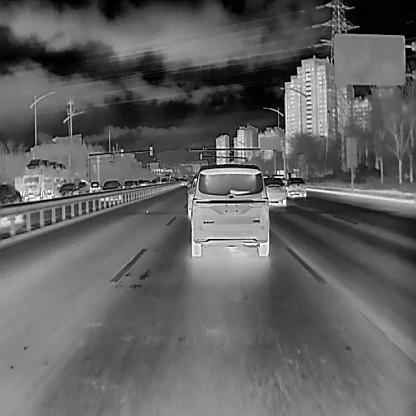car: (186, 159, 271, 257), (16, 156, 68, 200), (259, 174, 287, 205), (100, 177, 122, 201), (284, 177, 308, 198), (58, 180, 77, 195), (122, 174, 137, 190), (75, 180, 88, 194), (88, 179, 100, 193), (139, 177, 152, 188)
